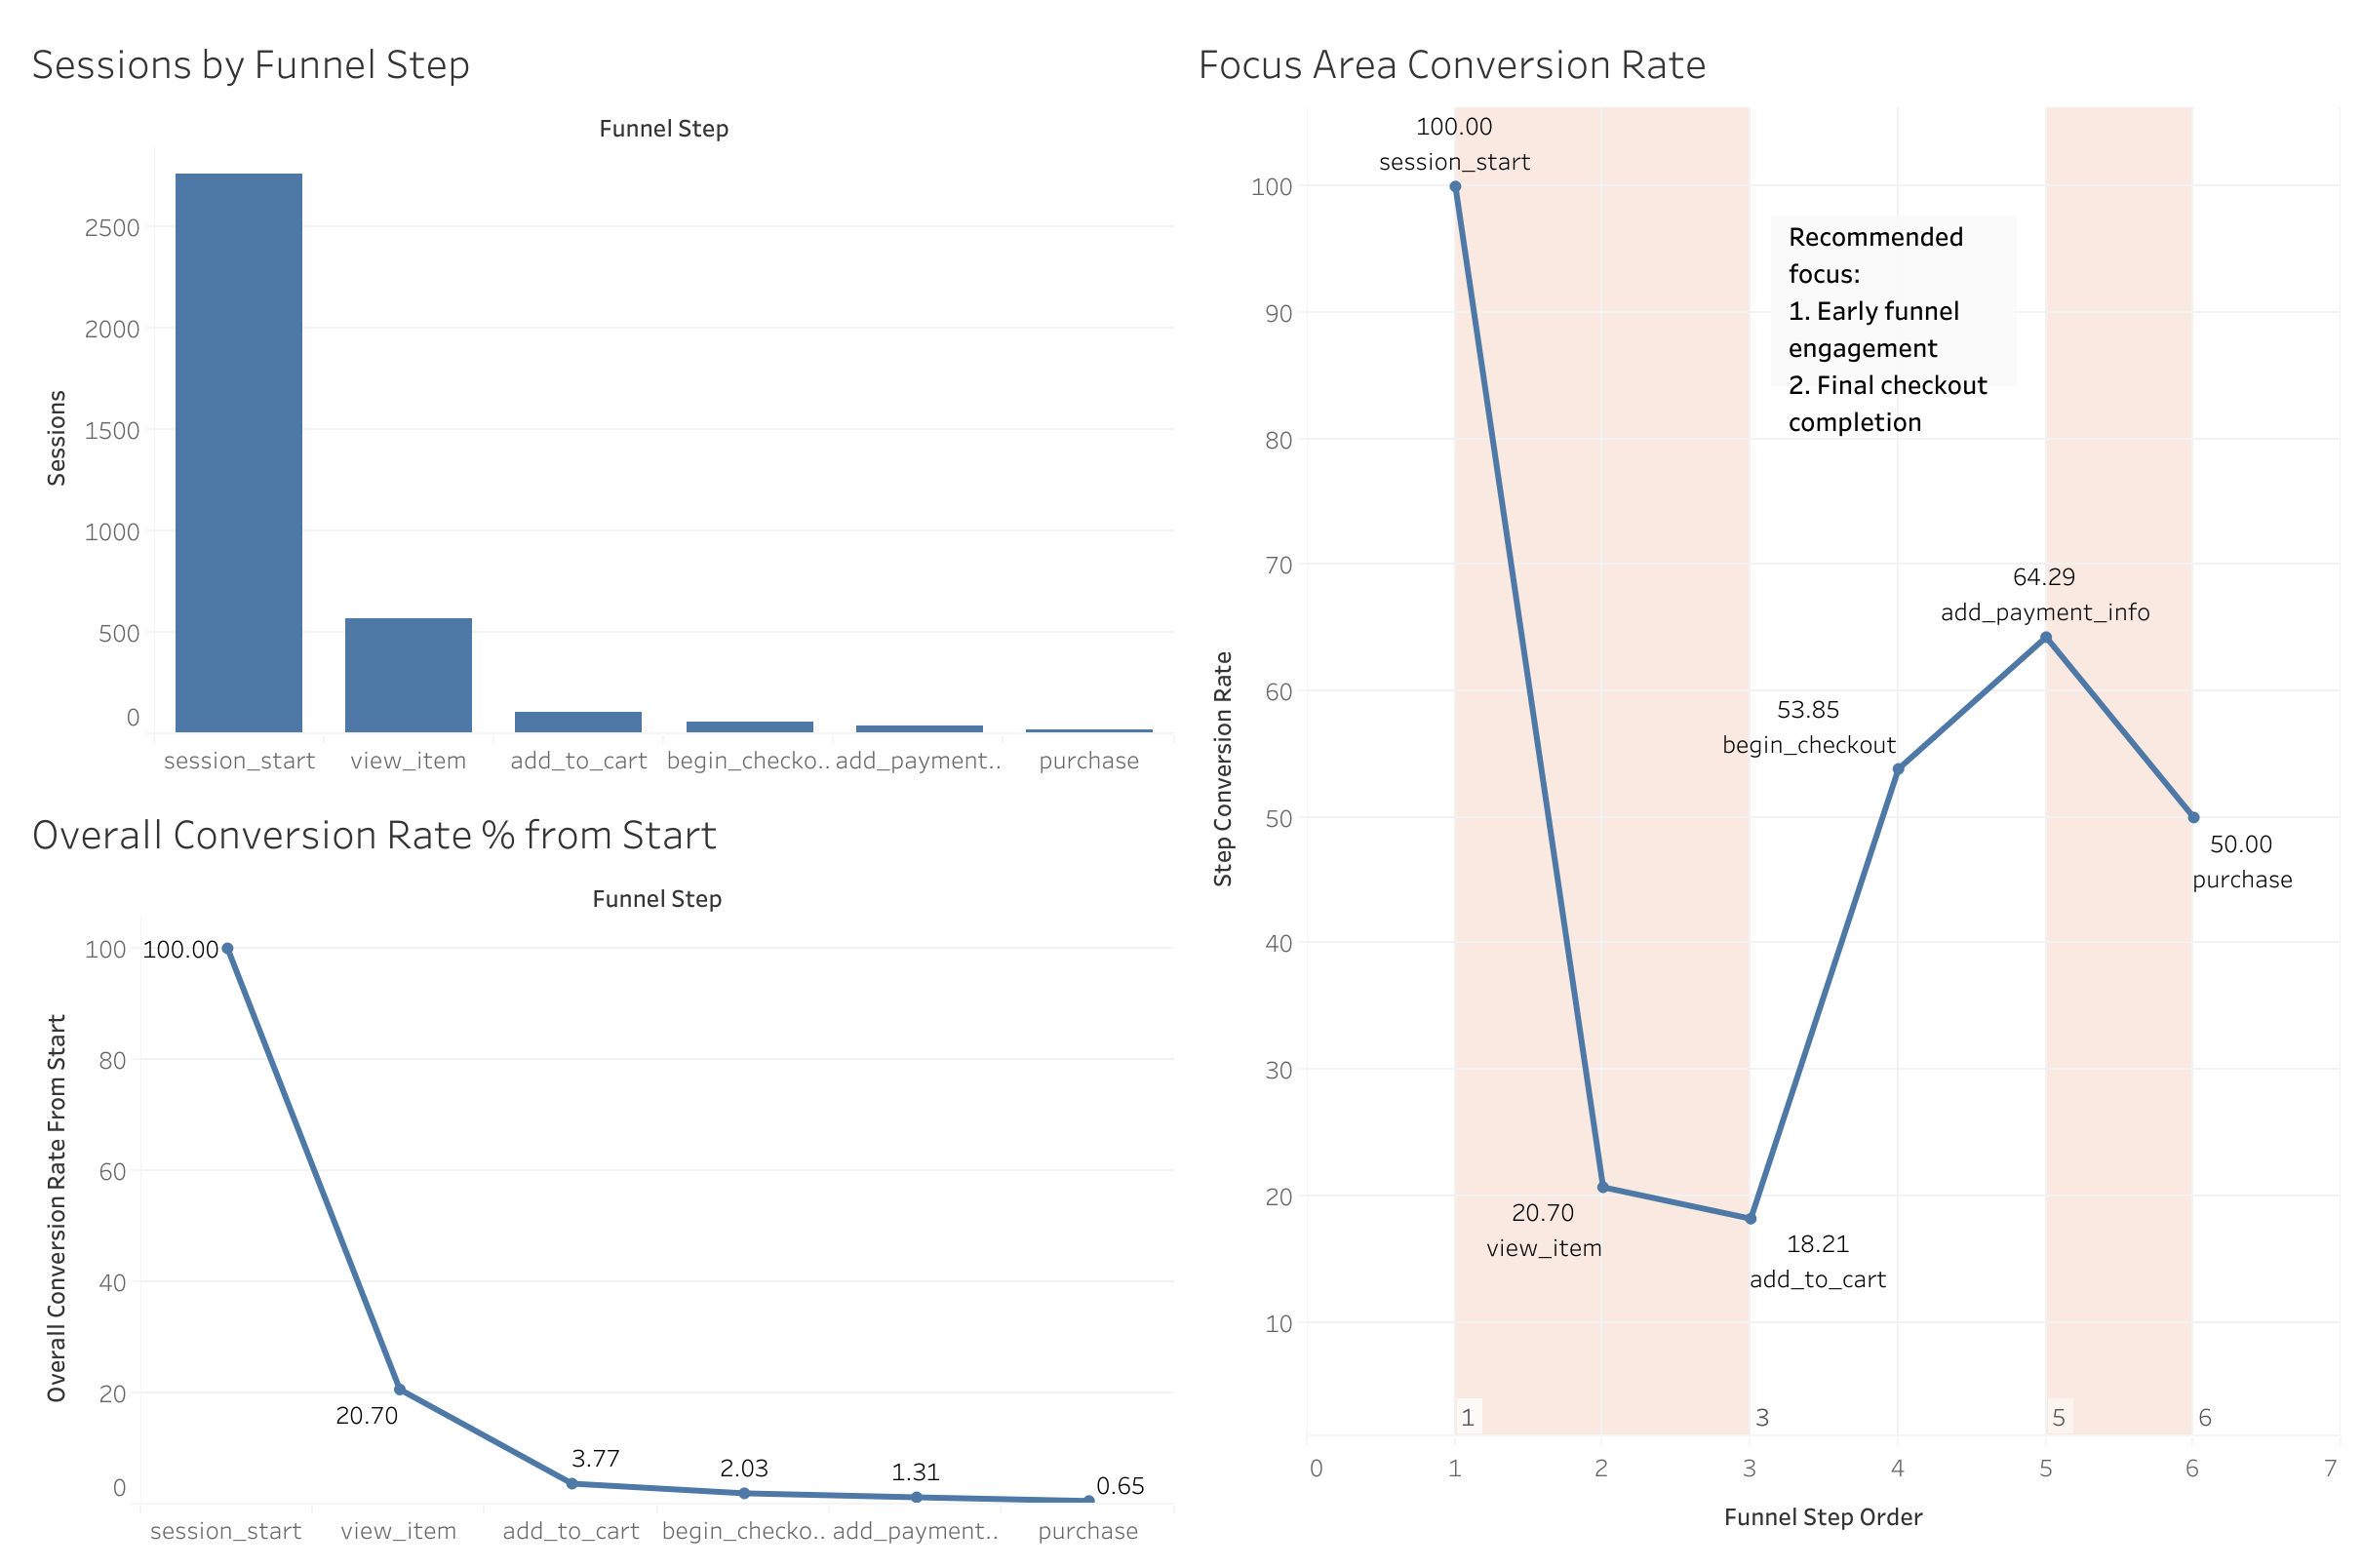

The dashboard page shown, as its layout file describes it:
{"tool":"tableau","page":{"name":"Dashboard 1","canvas":[1000,1000],"units":"permille","ordinal":0},"visuals":[{"type":"worksheet","title":"Sessions by Funnel Step","mark":"Automatic","rows":["sessions"],"cols":["funnel_step"],"box":[5.7,9.5,494.3,490.5]},{"type":"worksheet","title":"Focus Area Conversion Rate","mark":"Line","rows":["step_conversion_rate"],"cols":["Calculation_2018701761921025"],"box":[500,9.5,494.3,981]},{"type":"worksheet","title":"Overall Conversion Rate % from Start","mark":"Line","rows":["overall_conversion_rate_from_start"],"cols":["funnel_step"],"box":[5.7,500,494.3,490.5]}]}

Visuals, with their boxes on the dashboard's canvas, which has no fixed pixel size, in thousandths of its width and height (x1, y1, x2, y2). These are canvas units, not pixel positions in the 2362x1568 screenshot, which may show the page scaled, cropped or inside an application window:
"Sessions by Funnel Step" worksheet: x1=6, y1=10, x2=500, y2=500
"Focus Area Conversion Rate" worksheet (Line marks): x1=500, y1=10, x2=994, y2=990
"Overall Conversion Rate % from Start" worksheet (Line marks): x1=6, y1=500, x2=500, y2=990
